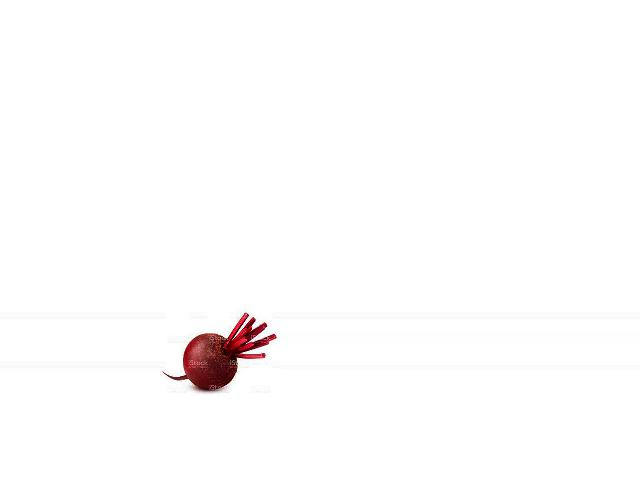beet: (163, 313, 276, 389)
